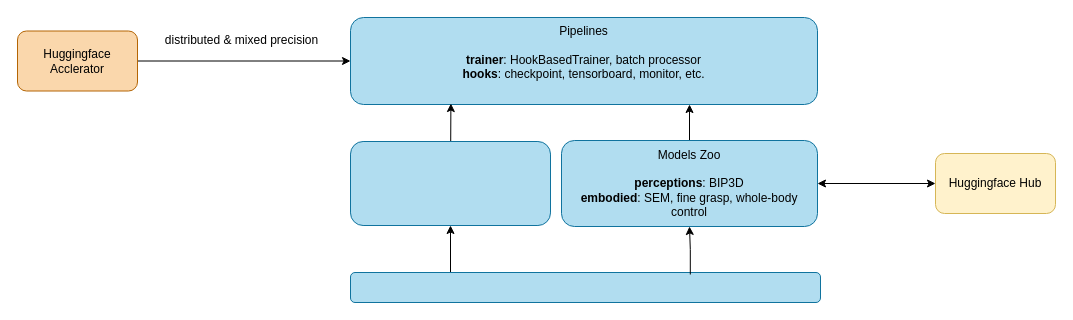
Some shapes in this 1073 by 320 pixel diagram are drawn without their labels. The centre of each missing label's shape, as x and y in pixels:
Configuration System (power by pydantic): the point at 585,287
Data dataset : embodiedscan, robotwin, robo_orchard_dataset transforms sampler: the point at 450,183
